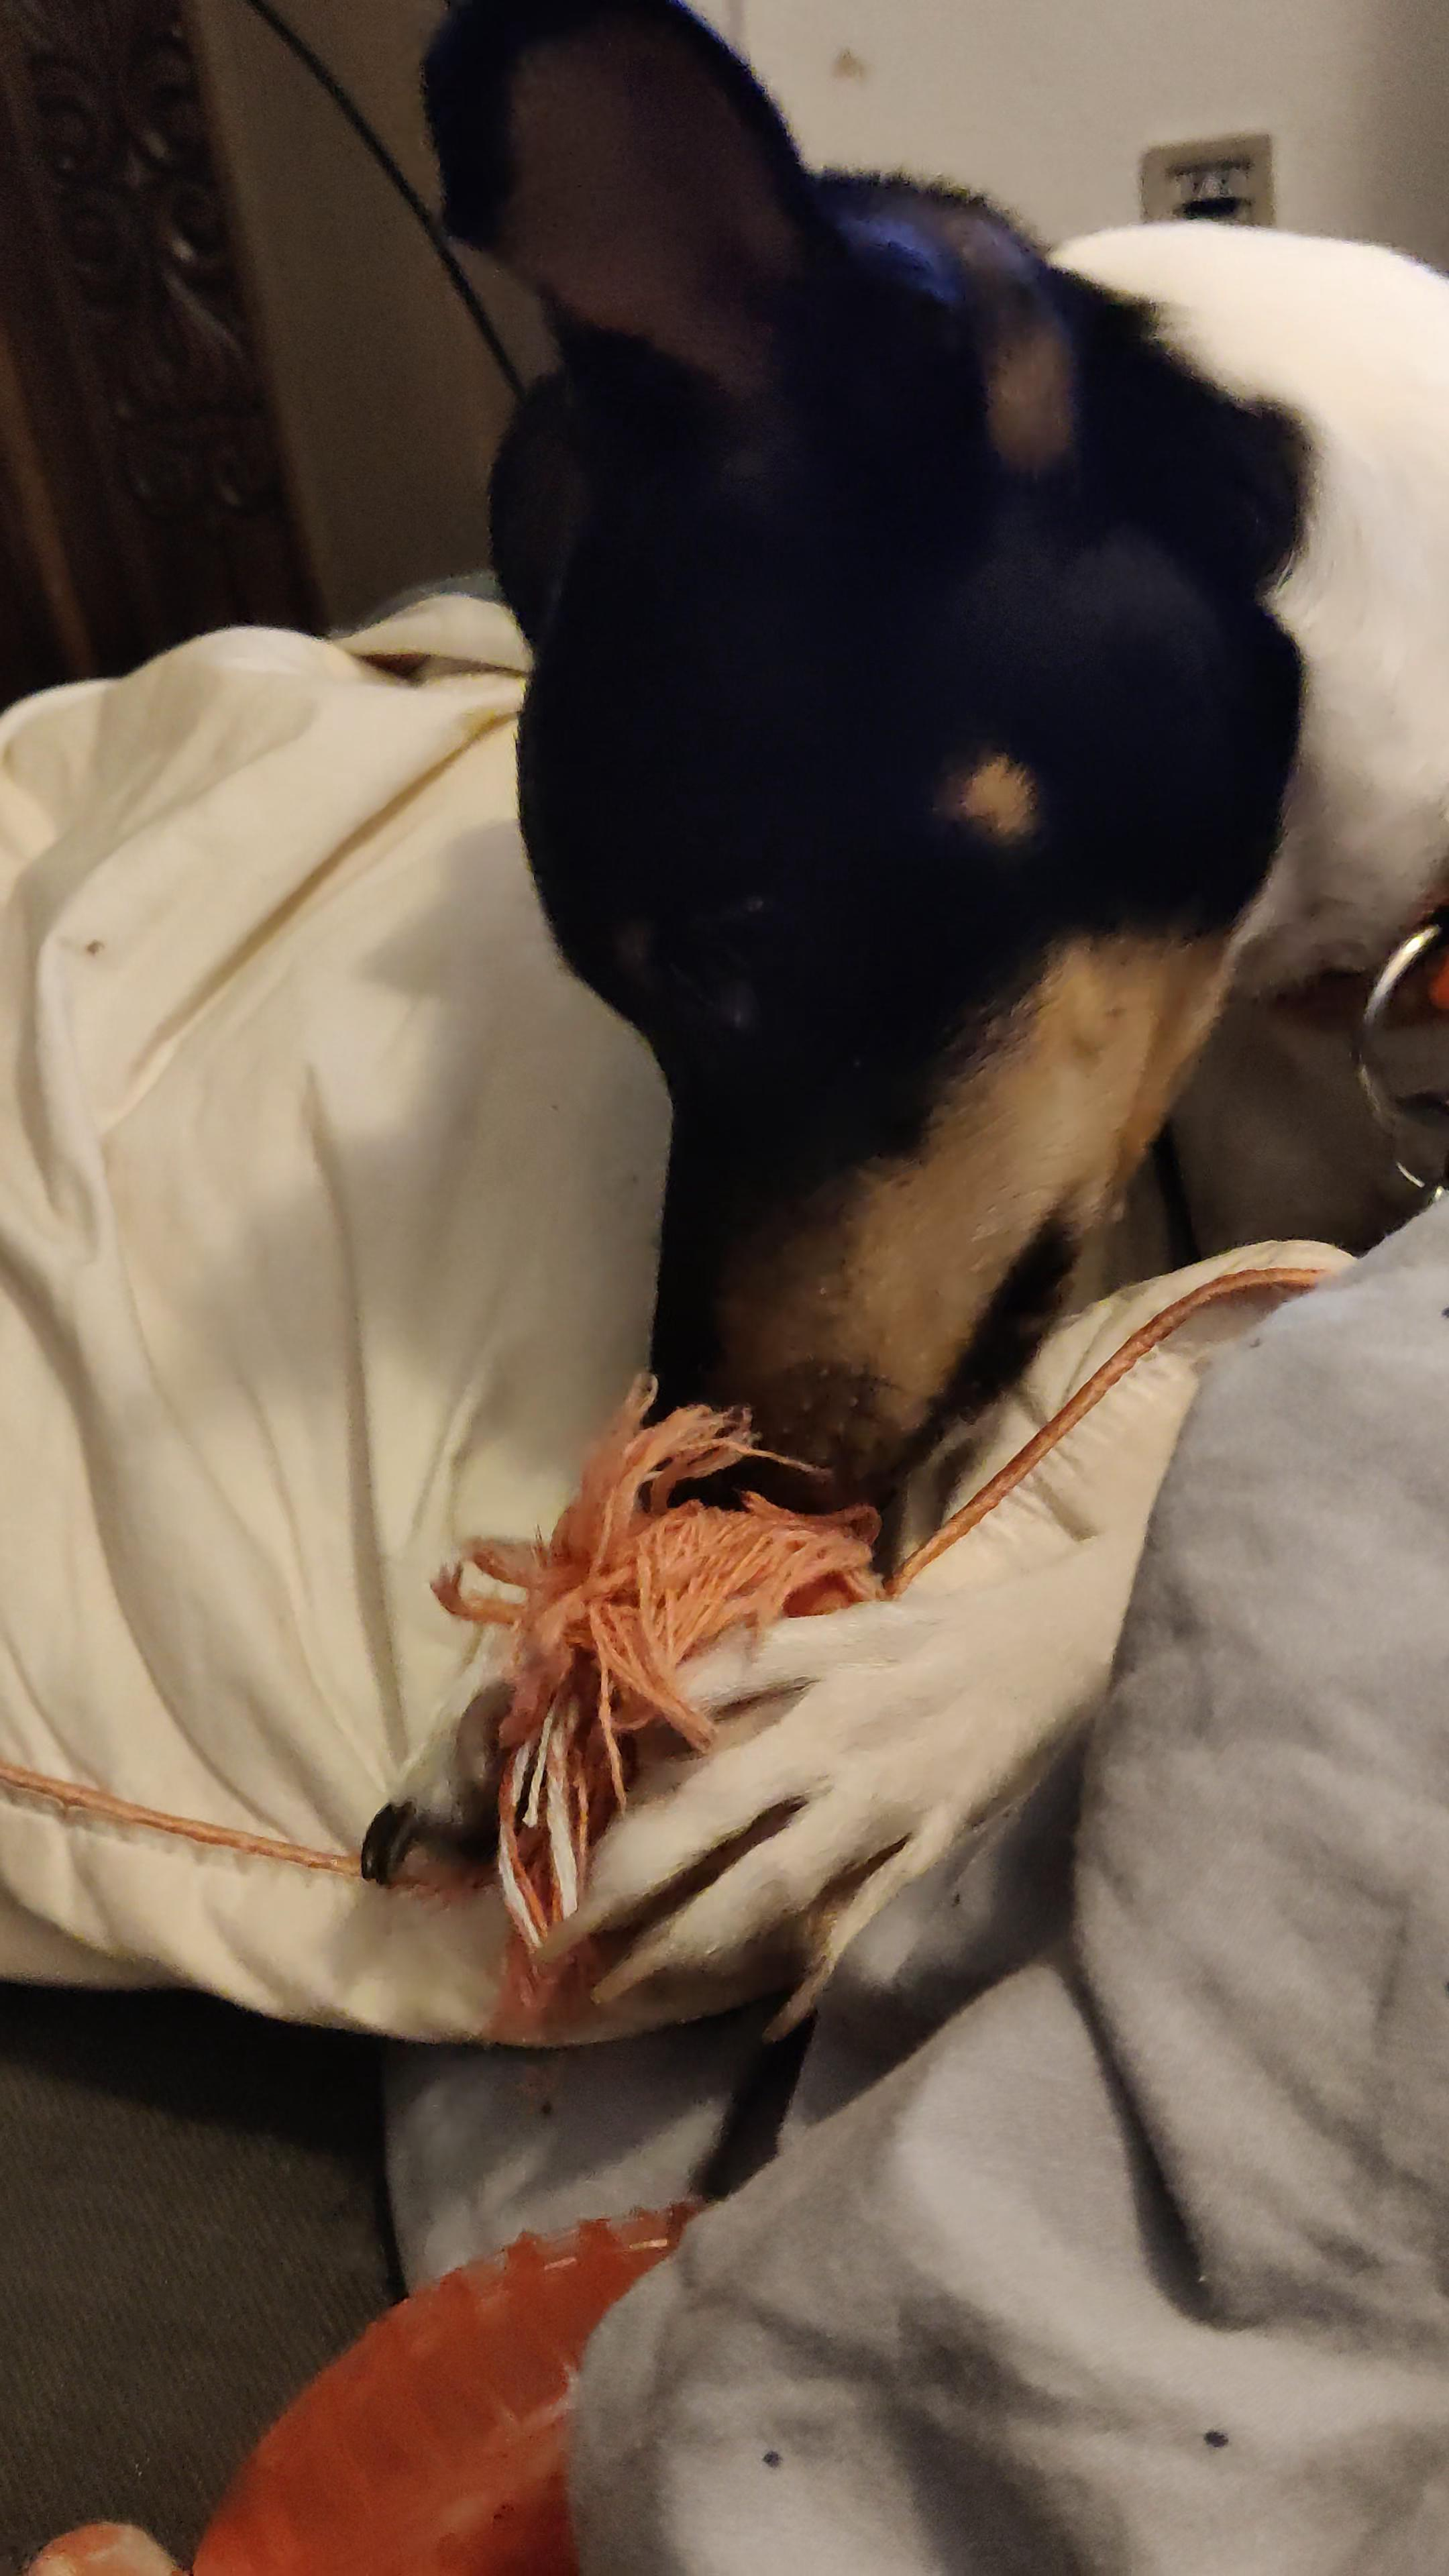Dog: (354, 0, 1449, 2100)
